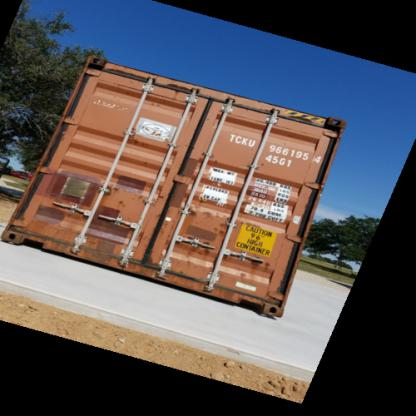Damage: (183, 238, 221, 272), (232, 252, 272, 284), (183, 203, 231, 224), (106, 181, 139, 211)
